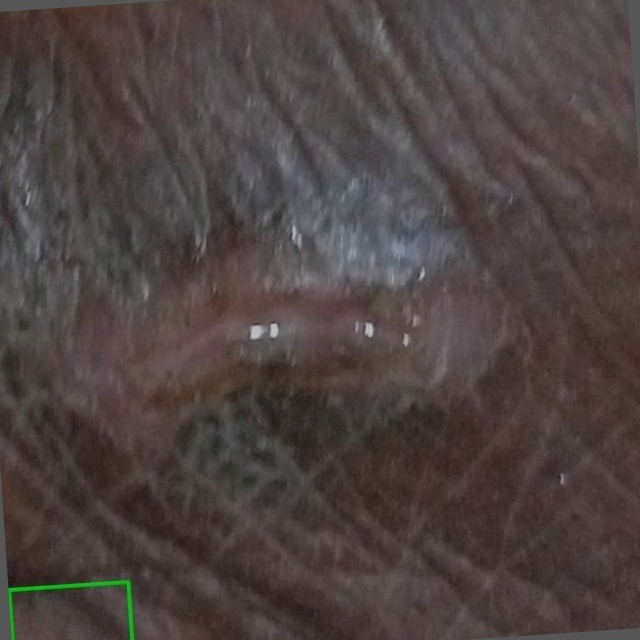Eczema: (9, 581, 133, 639)
